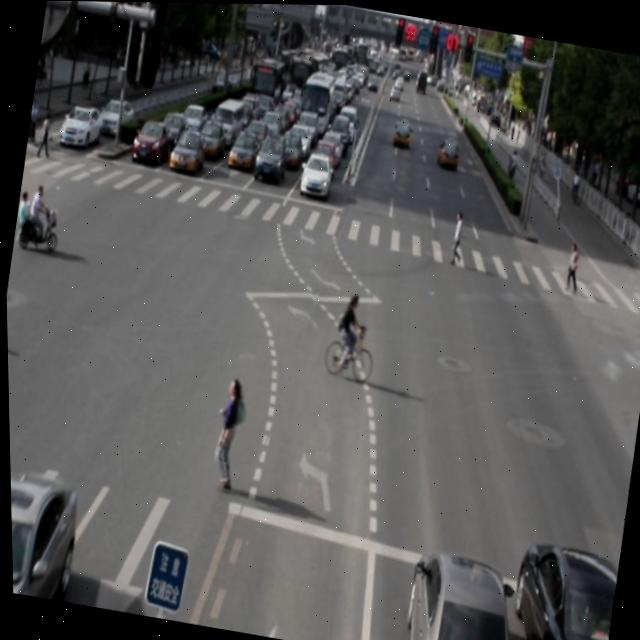car: (495, 540, 618, 640), (395, 546, 522, 640), (8, 459, 83, 602)
